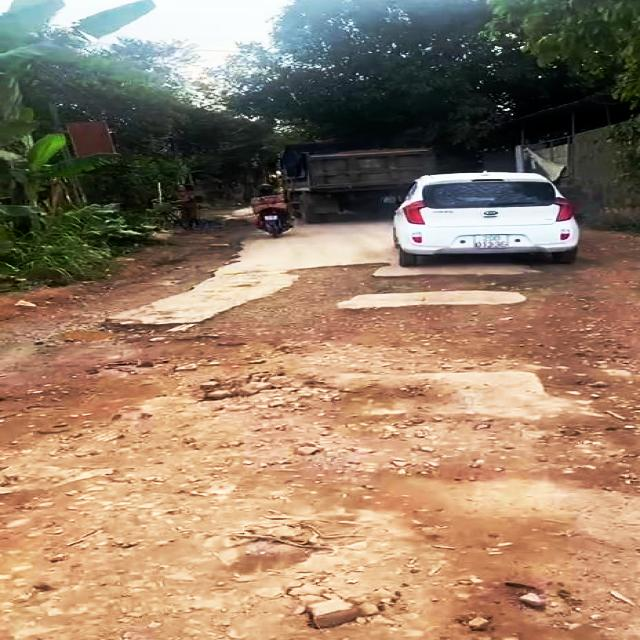pothole: (0, 311, 332, 488), (419, 274, 640, 414), (175, 261, 418, 376)
